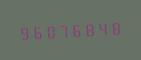eight: (82, 19, 94, 38), (108, 18, 120, 37)
four: (95, 18, 107, 38)
nine: (17, 22, 29, 42)
seven: (56, 20, 68, 40)
six: (30, 22, 42, 41), (69, 20, 81, 39)
zero: (43, 21, 55, 40)
